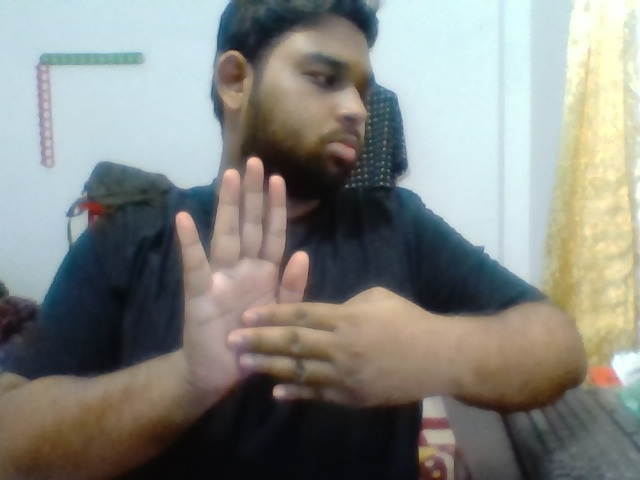H: (163, 161, 433, 423)
